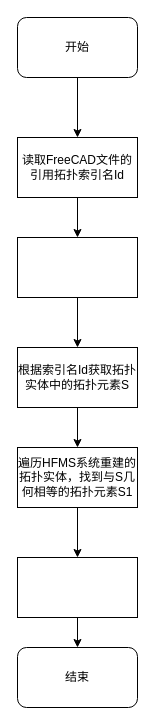
The diagram is 155 pixels wide and 725 high, and some of its shapes have lost their labels. The box of each missing label's shape, as (x1, y1, x2, y2) in pixels:
由拓扑元素S1和引用名生成算法生成其引用名并存入特征: (16, 556, 138, 618)
读取相应的.brep文件生成拓扑实体: (16, 236, 138, 298)
